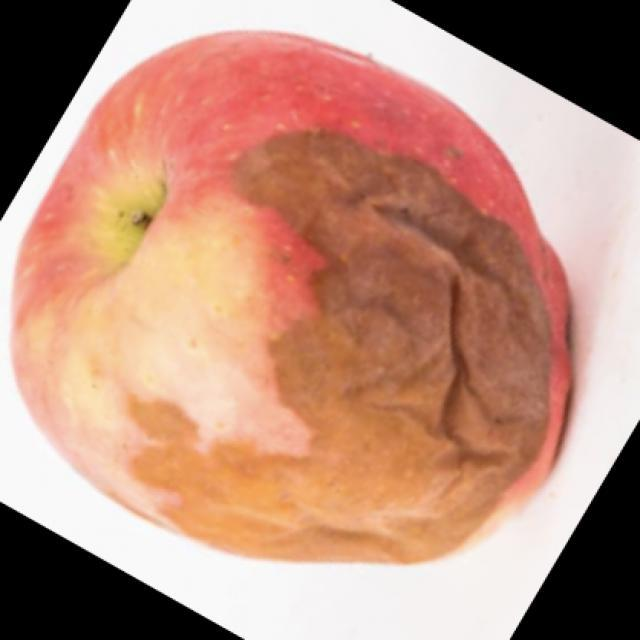Rotten: (60, 43, 563, 555)
